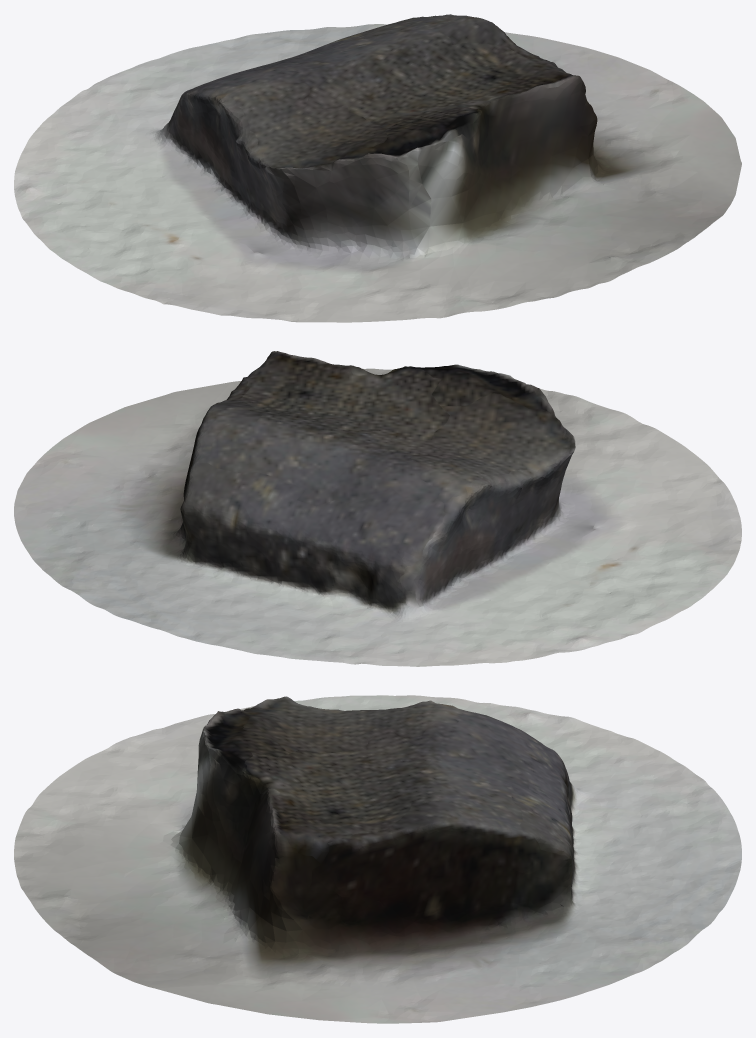
3 views of the same model, one above another, from view 1: azimuth 30°, elevation 25°; view 2: azimuth 150°, elevation 25°; view 3: azimuth 270°, elevation 25° (orthographic). The views are drawn at different scales.
Visible parts, largest first — view 1: mesh; view 2: mesh; view 3: mesh.
Part boxes in pixels (x1,y1,x2,y2): mesh: (14,14,741,322); mesh: (14,351,741,666); mesh: (14,695,741,1023).
Bounding box in the file's own units: 0.1252 × 0.0199 × 0.1168.
Materials: 1 (1 with a texture image).
